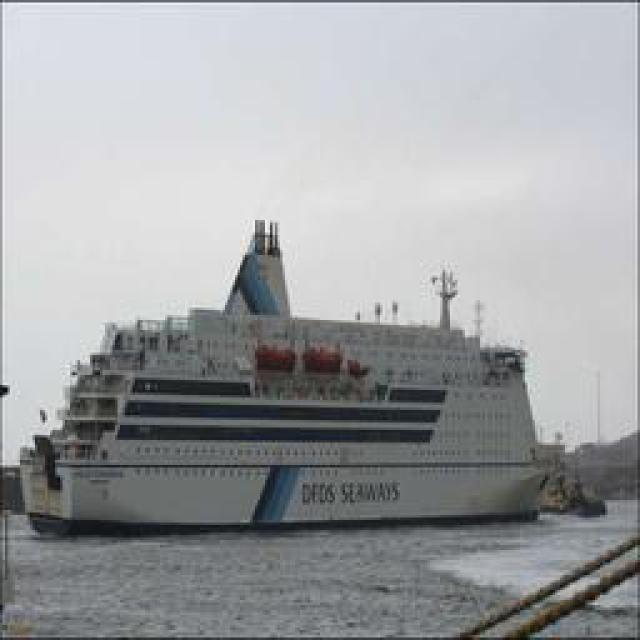Ship: (14, 242, 574, 530)
